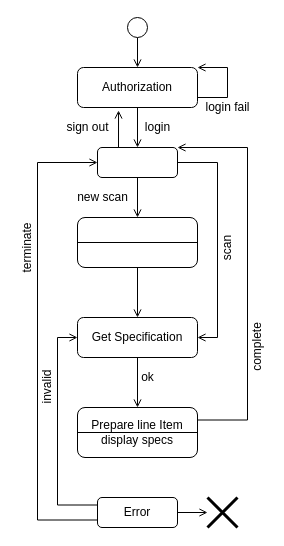
Image size: 284x546. Some labels were removed from this diagram. The shapes that lost their labels are listed below. From the top down, each one's centre as x and y in pixels, then its label:
(137,162): Idle
(137,242): New Sale print header of bill
